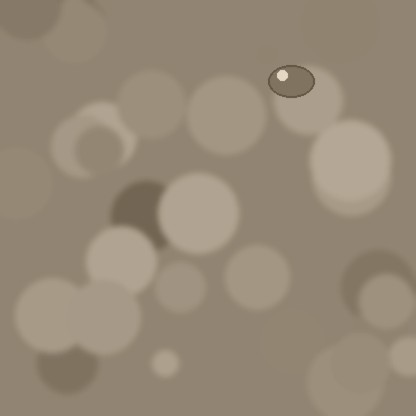gota: (268, 66, 314, 100)
